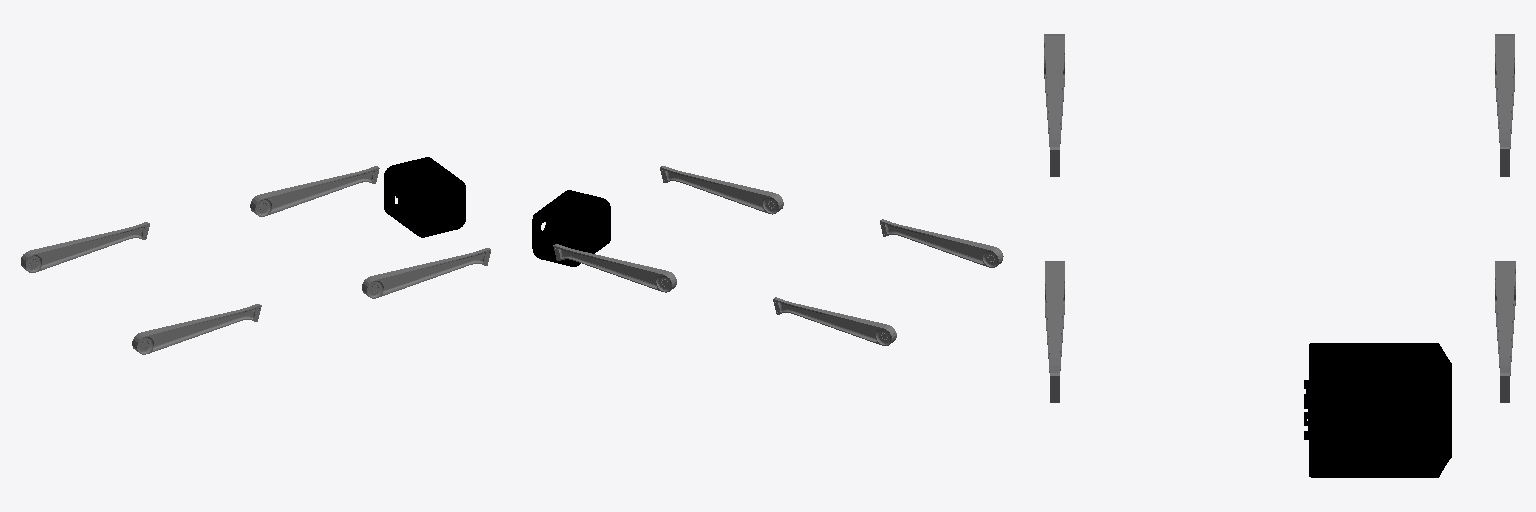
URDF robot description (stoch3):
<?xml version="1.0" encoding="utf-8"?>
<!-- This URDF was automatically created by SolidWorks to URDF Exporter! Originally created by [author] ([email redacted]) 
     Commit Version: 1.5.1-0-g916b5db  Build Version: 1.5.7152.31018
     For more information, please see http://wiki.ros.org/sw_urdf_exporter -->
<robot
  name="stoch3">
  <link
    name="base_link">
    <inertial>
      <origin
        xyz="0.01 -1.8464E-05 0.0026538"
        rpy="0 0 0" />
      <mass
        value="7.302" />
      <inertia
        ixx="0.0090197"
        ixy="2.2679E-06"
        ixz="6.4897E-05"
        iyy="0.0094033"
        iyz="-2.1628E-08"
        izz="0.01573" />
    </inertial>
    <visual>
      <origin
        xyz="0 0 0"
        rpy="0 0 0" />
      <geometry>
        <mesh
          filename="package://stoch3/meshes/base_link.STL" />
      </geometry>
      <material
        name="red">
        <color
          rgba="1.0 0.0 0.0 1" />
      </material>
    </visual>
    <collision>
      <origin
        xyz="0 0 0"
        rpy="0 0 0" />
      <geometry>
        <mesh
          filename="package://stoch3/meshes/base_link.STL" />
      </geometry>
    </collision>
  </link>
  <link
    name="fl_abd_link">
    <inertial>
      <origin
        xyz="0.070269 -0.036118 -2.601E-07"
        rpy="0 0 0" />
      <mass
        value="0.978" />
      <inertia
        ixx="0.00045941"
        ixy="-6.723E-07"
        ixz="3.3247E-08"
        iyy="0.00059328"
        iyz="5.8817E-09"
        izz="0.00046214" />
    </inertial>
    <visual>
      <origin
        xyz="0 0 0"
        rpy="0 0 0" />
      <geometry>
        <mesh
          filename="package://stoch3/meshes/fl_abd_link.STL" />
      </geometry>
      <material
        name="black">
        <color
          rgba="0.0 0.0 0.0 1" />
      </material>
    </visual>
    <collision>
      <origin
        xyz="0 0 0"
        rpy="0 0 0" />
      <geometry>
        <mesh
          filename="package://stoch3/meshes/fl_abd_link.STL" />
      </geometry>
    </collision>
  </link>
  <joint
    name="fl_abd_joint"
    type="revolute">
    <origin
      xyz="0.18598 0.10004 -0.0005"
      rpy="0 0 0.00021134" />
    <parent
      link="base_link" />
    <child
      link="fl_abd_link" />
    <axis
      xyz="-1 0 0" />
    <limit
      lower="-3.5708"
      upper="3.5708"
      effort="100"
      velocity="100" />
  </joint>
  <link
    name="fl_upper_leg_link">
    <inertial>
      <origin
        xyz="-0.072527 0.076425 1.3632E-05"
        rpy="0 0 0" />
      <mass
        value="1.547" />
      <inertia
        ixx="0.00031538"
        ixy="-4.0486E-06"
        ixz="-4.8938E-07"
        iyy="0.0031011"
        iyz="6.4786E-11"
        izz="0.0028703" />
    </inertial>
    <visual>
      <origin
        xyz="0 0 0"
        rpy="0 0 0" />
      <geometry>
        <mesh
          filename="package://stoch3/meshes/fl_upper_leg_link.STL" />
      </geometry>
      <material
        name="black">
        <color
          rgba="0.0 0.0 0.0 1" />
      </material>
    </visual>
    <collision>
      <origin
        xyz="0 0 0"
        rpy="0 0 0" />
      <geometry>
        <mesh
          filename="package://stoch3/meshes/fl_upper_leg_link.STL" />
      </geometry>
    </collision>
  </link>
  <joint
    name="fl_hip_joint"
    type="revolute">
    <origin
      xyz="0.074 -0.01975 0"
      rpy="0 0 0" />
    <parent
      link="fl_abd_link" />
    <child
      link="fl_upper_leg_link" />
    <axis
      xyz="0 -1 0" />
    <limit
      lower="-1.5708"
      upper="6.2832"
      effort="100"
      velocity="100" />
  </joint>
  <link
    name="fl_lower_leg_link">
    <inertial>
      <origin
        xyz="0.086252 5.8285E-07 0.0035444"
        rpy="0 0 0" />
      <mass
        value="0.18" />
      <inertia
        ixx="2.0675E-05"
        ixy="-2.4323E-09"
        ixz="-3.9572E-05"
        iyy="0.0010886"
        iyz="-8.8856E-10"
        izz="0.0010716" />
    </inertial>
    <visual>
      <origin
        xyz="0 0 0"
        rpy="0 0 0" />
      <geometry>
        <mesh
          filename="package://stoch3/meshes/fl_lower_leg_link.STL" />
      </geometry>
      <material
        name="grey">
        <color
          rgba="0.5 0.5 0.5 1.0" />
      </material>
    </visual>
    <collision>
      <origin
        xyz="0 0 0"
        rpy="0 0 0" />
      <geometry>
        <mesh
          filename="package://stoch3/meshes/fl_lower_leg_link.STL" />
      </geometry>
    </collision>
  </link>
  <joint
    name="fl_knee_joint"
    type="revolute">
    <origin
      xyz="-0.297 0.1385 0"
      rpy="0 0 0" />
    <parent
      link="fl_upper_leg_link" />
    <child
      link="fl_lower_leg_link" />
    <axis
      xyz="0 1 0" />
    <limit
      lower="-6.28"
      upper="6.28"
      effort="100"
      velocity="100" />
  </joint>
  <link
    name="fl_foot_link">
    <inertial>
      <origin
        xyz="0.0031638 -3.2728E-12 -0.00086153"
        rpy="0 0 0" />
      <mass
        value="0.02" />
      <inertia
        ixx="1.2618E-05"
        ixy="-3.347E-13"
        ixz="-5.684E-07"
        iyy="2.1257E-05"
        iyz="-1.222E-12"
        izz="1.0686E-05" />
    </inertial>
    <visual>
      <origin
        xyz="0 0 0"
        rpy="0 0 0" />
      <geometry>
        <mesh
          filename="package://stoch3/meshes/fl_foot_link.STL" />
      </geometry>
      <material
        name="black">
        <color
          rgba="0.0 0.0 0.0 1" />
      </material>
    </visual>
    <collision>
      <origin
        xyz="0 0 0"
        rpy="0 0 0" />
      <geometry>
        <mesh
          filename="package://stoch3/meshes/fl_foot_link.STL" />
      </geometry>
    </collision>
  </link>
  <joint
    name="fl_ankel_joint"
    type="fixed">
    <origin
      xyz="0.27479 0 0.00065295"
      rpy="0 0 0" />
    <parent
      link="fl_lower_leg_link" />
    <child
      link="fl_foot_link" />
    <axis
      xyz="0 0 0" />
  </joint>
  <link
    name="fr_abd_link">
    <inertial>
      <origin
        xyz="0.07027 0.036118 -2.9553E-07"
        rpy="0 0 0" />
      <mass
        value="0.978" />
      <inertia
        ixx="0.00045941"
        ixy="6.965E-07"
        ixz="-3.3418E-08"
        iyy="0.00059328"
        iyz="-5.8767E-09"
        izz="0.00046214" />
    </inertial>
    <visual>
      <origin
        xyz="0 0 0"
        rpy="0 0 0" />
      <geometry>
        <mesh
          filename="package://stoch3/meshes/fr_abd_link.STL" />
      </geometry>
      <material
        name="black">
        <color
          rgba="0.0 0.0 0.0 1" />
      </material>
    </visual>
    <collision>
      <origin
        xyz="0 0 0"
        rpy="0 0 0" />
      <geometry>
        <mesh
          filename="package://stoch3/meshes/fr_abd_link.STL" />
      </geometry>
    </collision>
  </link>
  <joint
    name="fr_abd_joint"
    type="revolute">
    <origin
      xyz="0.18602 -0.099961 -0.0005"
      rpy="0 0 0.00021134" />
    <parent
      link="base_link" />
    <child
      link="fr_abd_link" />
    <axis
      xyz="1 0 0" />
    <limit
      lower="-3.5708"
      upper="3.5708"
      effort="100"
      velocity="100" />
  </joint>
  <link
    name="fr_upper_leg_link">
    <inertial>
      <origin
        xyz="-0.072527 -0.076425 -1.3632E-05"
        rpy="0 0 0" />
      <mass
        value="1.547" />
      <inertia
        ixx="0.00031538"
        ixy="4.0486E-06"
        ixz="4.8939E-07"
        iyy="0.0031011"
        iyz="6.4776E-11"
        izz="0.0028703" />
    </inertial>
    <visual>
      <origin
        xyz="0 0 0"
        rpy="0 0 0" />
      <geometry>
        <mesh
          filename="package://stoch3/meshes/fr_upper_leg_link.STL" />
      </geometry>
      <material
        name="black">
        <color
          rgba="0.0 0.0 0.0 1" />
      </material>
    </visual>
    <collision>
      <origin
        xyz="0 0 0"
        rpy="0 0 0" />
      <geometry>
        <mesh
          filename="package://stoch3/meshes/fr_upper_leg_link.STL" />
      </geometry>
    </collision>
  </link>
  <joint
    name="fr_hip_joint"
    type="revolute">
    <origin
      xyz="0.074 0.01975 0"
      rpy="0 0 0" />
    <parent
      link="fr_abd_link" />
    <child
      link="fr_upper_leg_link" />
    <axis
      xyz="0 -1 0" />
    <limit
      lower="-1.5708"
      upper="6.2832"
      effort="100"
      velocity="100" />
  </joint>
  <link
    name="fr_lower_leg_link">
    <inertial>
      <origin
        xyz="0.086252 5.8285E-07 0.0035444"
        rpy="0 0 0" />
      <mass
        value="0.18" />
      <inertia
        ixx="2.0675E-05"
        ixy="-2.4323E-09"
        ixz="-3.9572E-05"
        iyy="0.0010886"
        iyz="-8.8856E-10"
        izz="0.0010716" />
    </inertial>
    <visual>
      <origin
        xyz="0 0 0"
        rpy="0 0 0" />
      <geometry>
        <mesh
          filename="package://stoch3/meshes/fr_lower_leg_link.STL" />
      </geometry>
      <material
        name="grey">
        <color
          rgba="0.5 0.5 0.5 1.0" />
      </material>
    </visual>
    <collision>
      <origin
        xyz="0 0 0"
        rpy="0 0 0" />
      <geometry>
        <mesh
          filename="package://stoch3/meshes/fr_lower_leg_link.STL" />
      </geometry>
    </collision>
  </link>
  <joint
    name="fr_knee_joint"
    type="revolute">
    <origin
      xyz="-0.297 -0.1385 0"
      rpy="0 0 0" />
    <parent
      link="fr_upper_leg_link" />
    <child
      link="fr_lower_leg_link" />
    <axis
      xyz="0 1 0" />
    <limit
      lower="-6.28"
      upper="6.28"
      effort="100"
      velocity="100" />
  </joint>
  <link
    name="fr_foot_link">
    <inertial>
      <origin
        xyz="0.0031638 -3.2734E-12 -0.00086153"
        rpy="0 0 0" />
      <mass
        value="0.02" />
      <inertia
        ixx="1.2618E-05"
        ixy="-3.347E-13"
        ixz="-5.684E-07"
        iyy="2.1257E-05"
        iyz="-1.222E-12"
        izz="1.0686E-05" />
    </inertial>
    <visual>
      <origin
        xyz="0 0 0"
        rpy="0 0 0" />
      <geometry>
        <mesh
          filename="package://stoch3/meshes/fr_foot_link.STL" />
      </geometry>
      <material
        name="black">
        <color
          rgba="0.0 0.0 0.0 1" />
      </material>
    </visual>
    <collision>
      <origin
        xyz="0 0 0"
        rpy="0 0 0" />
      <geometry>
        <mesh
          filename="package://stoch3/meshes/fr_foot_link.STL" />
      </geometry>
    </collision>
  </link>
  <joint
    name="fr_ankel_joint"
    type="fixed">
    <origin
      xyz="0.27479 0 0.00065295"
      rpy="0 0 0" />
    <parent
      link="fr_lower_leg_link" />
    <child
      link="fr_foot_link" />
    <axis
      xyz="0 0 0" />
  </joint>
  <link
    name="bl_abd_link">
    <inertial>
      <origin
        xyz="-0.06995 -0.037322 -1.8681E-06"
        rpy="0 0 0" />
      <mass
        value="0.978" />
      <inertia
        ixx="0.00039025"
        ixy="5.9364E-08"
        ixz="1.1626E-07"
        iyy="0.00050148"
        iyz="5.3635E-09"
        izz="0.00037524" />
    </inertial>
    <visual>
      <origin
        xyz="0 0 0"
        rpy="0 0 0" />
      <geometry>
        <mesh
          filename="package://stoch3/meshes/bl_abd_link.STL" />
      </geometry>
      <material
        name="black">
        <color
          rgba="0.0 0.0 0.0 1" />
      </material>
    </visual>
    <collision>
      <origin
        xyz="0 0 0"
        rpy="0 0 0" />
      <geometry>
        <mesh
          filename="package://stoch3/meshes/bl_abd_link.STL" />
      </geometry>
    </collision>
  </link>
  <joint
    name="bl_abd_joint"
    type="revolute">
    <origin
      xyz="-0.18602 0.099961 -0.0005"
      rpy="0 0 0.00021134" />
    <parent
      link="base_link" />
    <child
      link="bl_abd_link" />
    <axis
      xyz="-1 0 0" />
    <limit
      lower="-3.5708"
      upper="3.5708"
      effort="100"
      velocity="100" />
  </joint>
  <link
    name="bl_upper_leg_link">
    <inertial>
      <origin
        xyz="-0.072527 0.076425 1.3632E-05"
        rpy="0 0 0" />
      <mass
        value="1.547" />
      <inertia
        ixx="0.00031538"
        ixy="-4.0486E-06"
        ixz="-4.8938E-07"
        iyy="0.0031011"
        iyz="6.4786E-11"
        izz="0.0028703" />
    </inertial>
    <visual>
      <origin
        xyz="0 0 0"
        rpy="0 0 0" />
      <geometry>
        <mesh
          filename="package://stoch3/meshes/bl_upper_leg_link.STL" />
      </geometry>
      <material
        name="black">
        <color
          rgba="0.0 0.0 0.0 1" />
      </material>
    </visual>
    <collision>
      <origin
        xyz="0 0 0"
        rpy="0 0 0" />
      <geometry>
        <mesh
          filename="package://stoch3/meshes/bl_upper_leg_link.STL" />
      </geometry>
    </collision>
  </link>
  <joint
    name="bl_hip_joint"
    type="revolute">
    <origin
      xyz="-0.074 -0.01975 0"
      rpy="0 0 0" />
    <parent
      link="bl_abd_link" />
    <child
      link="bl_upper_leg_link" />
    <axis
      xyz="0 -1 0" />
    <limit
      lower="-1.5708"
      upper="6.2832"
      effort="100"
      velocity="100" />
  </joint>
  <link
    name="bl_lower_leg_link">
    <inertial>
      <origin
        xyz="0.086252 5.8285E-07 0.0035444"
        rpy="0 0 0" />
      <mass
        value="0.18" />
      <inertia
        ixx="2.0675E-05"
        ixy="-2.4323E-09"
        ixz="-3.9572E-05"
        iyy="0.0010886"
        iyz="-8.8856E-10"
        izz="0.0010716" />
    </inertial>
    <visual>
      <origin
        xyz="0 0 0"
        rpy="0 0 0" />
      <geometry>
        <mesh
          filename="package://stoch3/meshes/bl_lower_leg_link.STL" />
      </geometry>
      <material
        name="grey">
        <color
          rgba="0.5 0.5 0.5 1.0" />
      </material>
    </visual>
    <collision>
      <origin
        xyz="0 0 0"
        rpy="0 0 0" />
      <geometry>
        <mesh
          filename="package://stoch3/meshes/bl_lower_leg_link.STL" />
      </geometry>
    </collision>
  </link>
  <joint
    name="bl_knee_joint"
    type="revolute">
    <origin
      xyz="-0.297 0.1385 0"
      rpy="0 0 0" />
    <parent
      link="bl_upper_leg_link" />
    <child
      link="bl_lower_leg_link" />
    <axis
      xyz="0 1 0" />
    <limit
      lower="-6.28"
      upper="6.28"
      effort="100"
      velocity="100" />
  </joint>
  <link
    name="bl_foot_link">
    <inertial>
      <origin
        xyz="0.0031638 -3.2734E-12 -0.00086153"
        rpy="0 0 0" />
      <mass
        value="0.02" />
      <inertia
        ixx="1.2618E-05"
        ixy="-3.347E-13"
        ixz="-5.684E-07"
        iyy="2.1257E-05"
        iyz="-1.222E-12"
        izz="1.0686E-05" />
    </inertial>
    <visual>
      <origin
        xyz="0 0 0"
        rpy="0 0 0" />
      <geometry>
        <mesh
          filename="package://stoch3/meshes/bl_foot_link.STL" />
      </geometry>
      <material
        name="black">
        <color
          rgba="0.0 0.0 0.0 1" />
      </material>
    </visual>
    <collision>
      <origin
        xyz="0 0 0"
        rpy="0 0 0" />
      <geometry>
        <mesh
          filename="package://stoch3/meshes/bl_foot_link.STL" />
      </geometry>
    </collision>
  </link>
  <joint
    name="bl_ankel_joint"
    type="fixed">
    <origin
      xyz="0.27479 0 0.00065295"
      rpy="0 0 0" />
    <parent
      link="bl_lower_leg_link" />
    <child
      link="bl_foot_link" />
    <axis
      xyz="0 0 0" />
  </joint>
  <link
    name="br_abd_link">
    <inertial>
      <origin
        xyz="-0.070173 0.037288 -1.5868E-07"
        rpy="0 0 0" />
      <mass
        value="0.978" />
      <inertia
        ixx="0.00038996"
        ixy="-9.0848E-07"
        ixz="-8.0338E-08"
        iyy="0.00050185"
        iyz="-1.0951E-09"
        izz="0.00037578" />
    </inertial>
    <visual>
      <origin
        xyz="0 0 0"
        rpy="0 0 0" />
      <geometry>
        <mesh
          filename="package://stoch3/meshes/br_abd_link.STL" />
      </geometry>
      <material
        name="black">
        <color
          rgba="0.0 0.0 0.0 1" />
      </material>
    </visual>
    <collision>
      <origin
        xyz="0 0 0"
        rpy="0 0 0" />
      <geometry>
        <mesh
          filename="package://stoch3/meshes/br_abd_link.STL" />
      </geometry>
    </collision>
  </link>
  <joint
    name="br_abd_joint"
    type="revolute">
    <origin
      xyz="-0.18598 -0.10004 -0.0005"
      rpy="0 0 0.00021134" />
    <parent
      link="base_link" />
    <child
      link="br_abd_link" />
    <axis
      xyz="1 0 0" />
    <limit
      lower="-3.5708"
      upper="3.5708"
      effort="100"
      velocity="100" />
  </joint>
  <link
    name="br_upper_leg_link">
    <inertial>
      <origin
        xyz="-0.072527 -0.076425 -1.3632E-05"
        rpy="0 0 0" />
      <mass
        value="1.547" />
      <inertia
        ixx="0.00031538"
        ixy="4.0486E-06"
        ixz="4.8939E-07"
        iyy="0.0031011"
        iyz="6.4776E-11"
        izz="0.0028703" />
    </inertial>
    <visual>
      <origin
        xyz="0 0 0"
        rpy="0 0 0" />
      <geometry>
        <mesh
          filename="package://stoch3/meshes/br_upper_leg_link.STL" />
      </geometry>
      <material
        name="black">
        <color
          rgba="0.0 0.0 0.0 1" />
      </material>
    </visual>
    <collision>
      <origin
        xyz="0 0 0"
        rpy="0 0 0" />
      <geometry>
        <mesh
          filename="package://stoch3/meshes/br_upper_leg_link.STL" />
      </geometry>
    </collision>
  </link>
  <joint
    name="br_hip_joint"
    type="revolute">
    <origin
      xyz="-0.074 0.01975 0"
      rpy="0 0 0" />
    <parent
      link="br_abd_link" />
    <child
      link="br_upper_leg_link" />
    <axis
      xyz="0 -1 0" />
    <limit
      lower="-1.5708"
      upper="6.2832"
      effort="100"
      velocity="100" />
  </joint>
  <link
    name="br_lower_leg_link">
    <inertial>
      <origin
        xyz="0.086252 5.8285E-07 0.0035444"
        rpy="0 0 0" />
      <mass
        value="0.18" />
      <inertia
        ixx="2.0675E-05"
        ixy="-2.4323E-09"
        ixz="-3.9572E-05"
        iyy="0.0010886"
        iyz="-8.8856E-10"
        izz="0.0010716" />
    </inertial>
    <visual>
      <origin
        xyz="0 0 0"
        rpy="0 0 0" />
      <geometry>
        <mesh
          filename="package://stoch3/meshes/br_lower_leg_link.STL" />
      </geometry>
      <material
        name="grey">
        <color
          rgba="0.5 0.5 0.5 1.0" />
      </material>
    </visual>
    <collision>
      <origin
        xyz="0 0 0"
        rpy="0 0 0" />
      <geometry>
        <mesh
          filename="package://stoch3/meshes/br_lower_leg_link.STL" />
      </geometry>
    </collision>
  </link>
  <joint
    name="br_knee_joint"
    type="revolute">
    <origin
      xyz="-0.297 -0.1385 0"
      rpy="0 0 0" />
    <parent
      link="br_upper_leg_link" />
    <child
      link="br_lower_leg_link" />
    <axis
      xyz="0 1 0" />
    <limit
      lower="-6.28"
      upper="6.28"
      effort="100"
      velocity="100" />
  </joint>
  <link
    name="br_foot_link">
    <inertial>
      <origin
        xyz="0.0031638 -3.2731E-12 -0.00086153"
        rpy="0 0 0" />
      <mass
        value="0.02" />
      <inertia
        ixx="1.2618E-05"
        ixy="-3.347E-13"
        ixz="-5.684E-07"
        iyy="2.1257E-05"
        iyz="-1.222E-12"
        izz="1.0686E-05" />
    </inertial>
    <visual>
      <origin
        xyz="0 0 0"
        rpy="0 0 0" />
      <geometry>
        <mesh
          filename="package://stoch3/meshes/br_foot_link.STL" />
      </geometry>
      <material
        name="black">
        <color
          rgba="0.0 0.0 0.0 1" />
      </material>
    </visual>
    <collision>
      <origin
        xyz="0 0 0"
        rpy="0 0 0" />
      <geometry>
        <mesh
          filename="package://stoch3/meshes/br_foot_link.STL" />
      </geometry>
    </collision>
  </link>
  <joint
    name="br_ankel_joint"
    type="fixed">
    <origin
      xyz="0.27479 0 0.00065295"
      rpy="0 0 0" />
    <parent
      link="br_lower_leg_link" />
    <child
      link="br_foot_link" />
    <axis
      xyz="0 0 0" />
  </joint>
</robot>

--- Facts derived from the render (not from the file) ---
Views: 3 orthographic renders of the robot side by side, from view 1: azimuth 30°, elevation 25°; view 2: azimuth 150°, elevation 25°; view 3: azimuth 270°, elevation 25°.
Robot: stoch3 — 17 links, 16 joints (12 revolute, 4 fixed); root link base_link; default pose: all joints at 0.
Links seen in each view (by area): view 1: fl_abd_link, fr_lower_leg_link, fl_lower_leg_link, bl_lower_leg_link, br_lower_leg_link; view 2: fl_abd_link, fr_lower_leg_link, bl_lower_leg_link, br_lower_leg_link, fl_lower_leg_link; view 3: fl_abd_link, br_lower_leg_link, fl_lower_leg_link, bl_lower_leg_link, fr_lower_leg_link.
Boxes of the visible links, <box> form: fl_abd_link: <box>384,157,465,237</box>; fr_lower_leg_link: <box>362,248,490,298</box>; fl_lower_leg_link: <box>250,166,379,216</box>; bl_lower_leg_link: <box>21,222,149,272</box>; br_lower_leg_link: <box>132,304,261,354</box>; fl_abd_link: <box>532,190,610,266</box>; fr_lower_leg_link: <box>660,166,783,214</box>; bl_lower_leg_link: <box>773,297,896,345</box>; br_lower_leg_link: <box>880,219,1003,267</box>; fl_lower_leg_link: <box>553,244,676,292</box>; fl_abd_link: <box>1304,343,1451,477</box>; br_lower_leg_link: <box>1044,34,1064,176</box>; fl_lower_leg_link: <box>1495,261,1515,402</box>; bl_lower_leg_link: <box>1495,34,1514,176</box>; fr_lower_leg_link: <box>1045,261,1064,402</box>.
Bounding box of the posed robot: 0.9039 × 0.4576 × 0.106 m (x, y, z).
Meshes: 17 distinct files referenced, 5 mesh visuals loaded (5 binary STL); not drawn: 12 (reference not matched to a file when rendering).